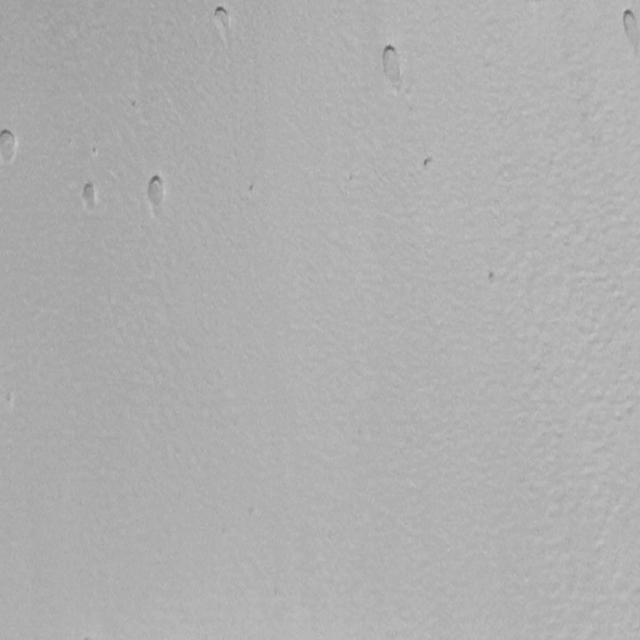pin holes: (376, 39, 409, 92), (617, 7, 639, 53), (147, 174, 170, 212), (211, 1, 236, 33), (1, 127, 21, 164), (79, 181, 101, 213), (419, 153, 442, 174), (485, 268, 499, 292), (245, 182, 259, 198)
